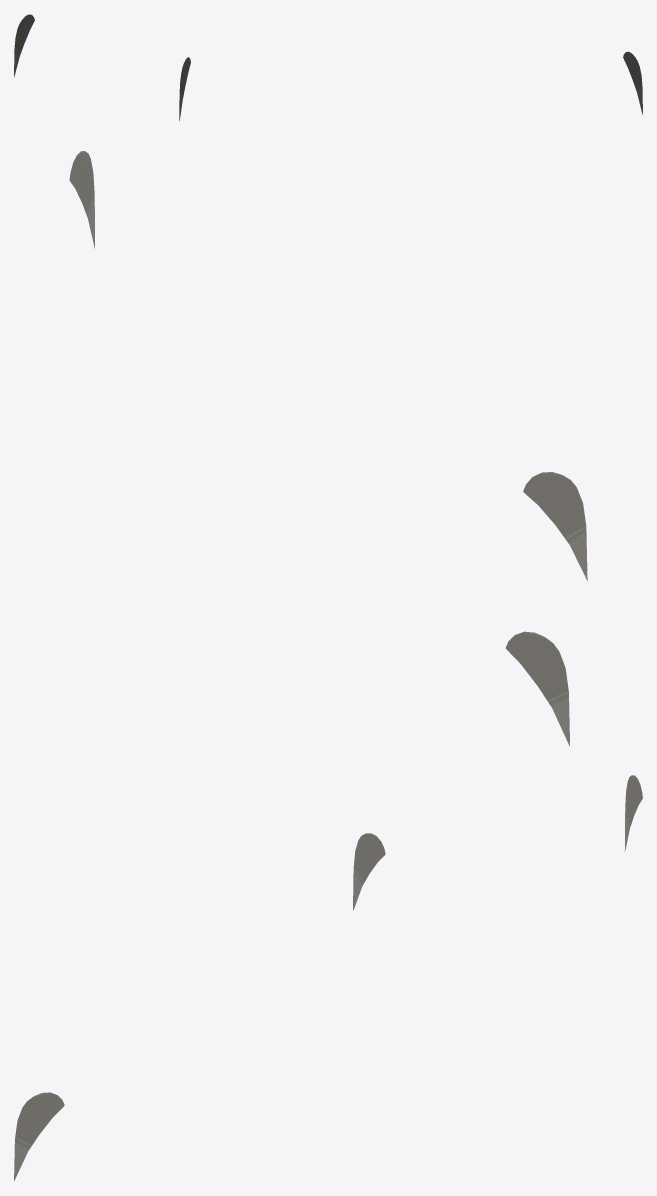
Rendered from pref_sm_4v4beachtech_bk_topblock_R01d_lv2.fbx.
3 views of the same model, one above another, from view 1: azimuth 30°, elevation 25°; view 2: azimuth 150°, elevation 25°; view 3: azimuth 270°, elevation 25° (orthographic). The views are drawn at different scales.
Parts seen in each view (by area): view 1: pref_sm_4v4beachtech_bk_topblock_R01d_lv2; view 2: pref_sm_4v4beachtech_bk_topblock_R01d_lv2; view 3: pref_sm_4v4beachtech_bk_topblock_R01d_lv2.
Boxes of the visible parts, x1,y1,x2,y2 form: pref_sm_4v4beachtech_bk_topblock_R01d_lv2: (14,14,642,120); pref_sm_4v4beachtech_bk_topblock_R01d_lv2: (69,151,587,746); pref_sm_4v4beachtech_bk_topblock_R01d_lv2: (14,775,642,1180).
Size of the model in its own units: 28.04 by 3.46 by 22.58.
